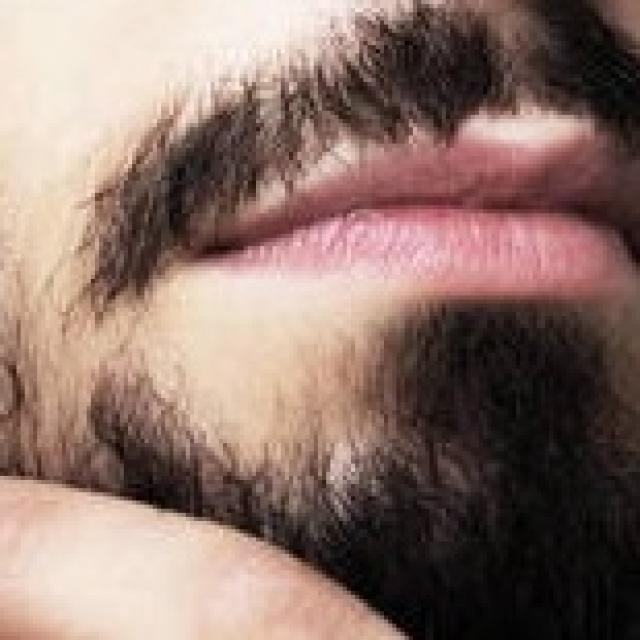closed-mouth: (186, 119, 640, 304)
